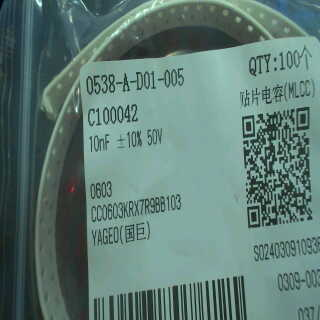10nF: (88, 129, 114, 156)
